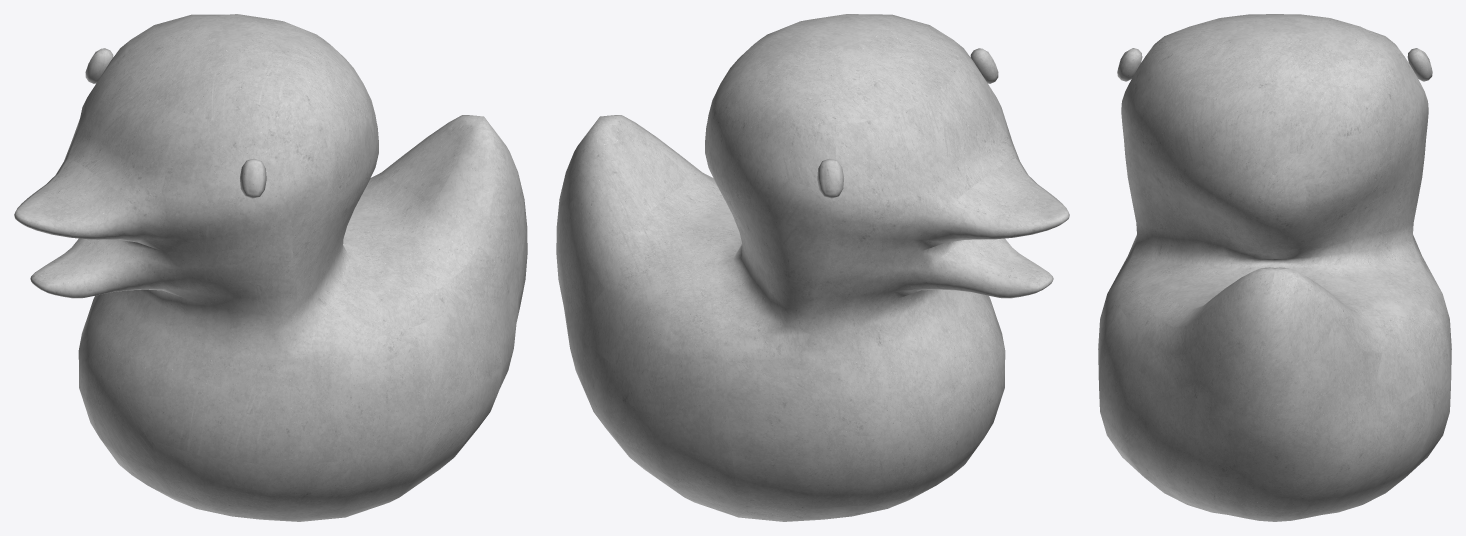
The model's file is SilverDuck.glb.
3 renders of one model, left to right at view 1: azimuth 30°, elevation 25°; view 2: azimuth 150°, elevation 25°; view 3: azimuth 270°, elevation 25°, orthographic. The views are drawn at different scales.
Visible parts, largest first — view 1: SILVER DUCKIE; view 2: SILVER DUCKIE; view 3: SILVER DUCKIE.
Part boxes in pixels (x1,y1,x2,y2): SILVER DUCKIE: (14, 14, 527, 521); SILVER DUCKIE: (556, 14, 1069, 521); SILVER DUCKIE: (1098, 14, 1451, 521).
Size of the model in its own units: 0.7412 by 0.6675 by 0.4795.
1 material, 1 textured.
